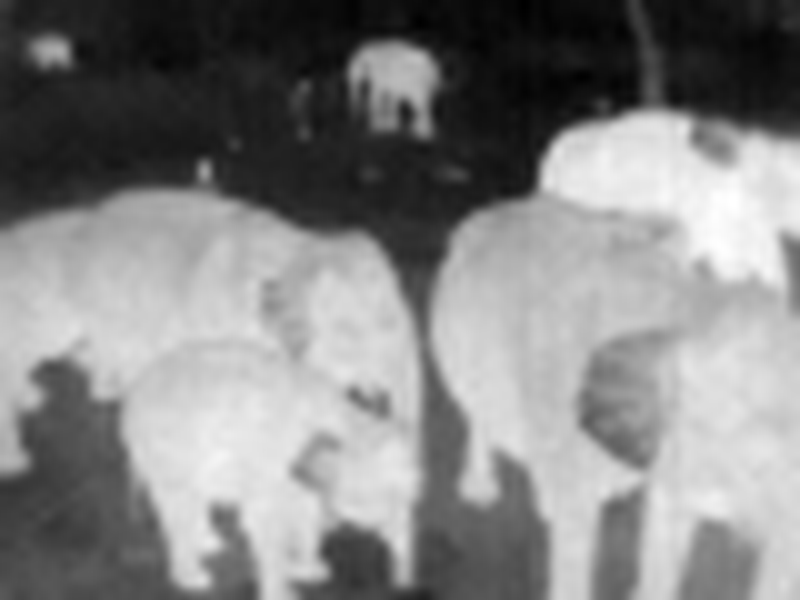elephant: (2, 195, 444, 592), (319, 40, 448, 150)
